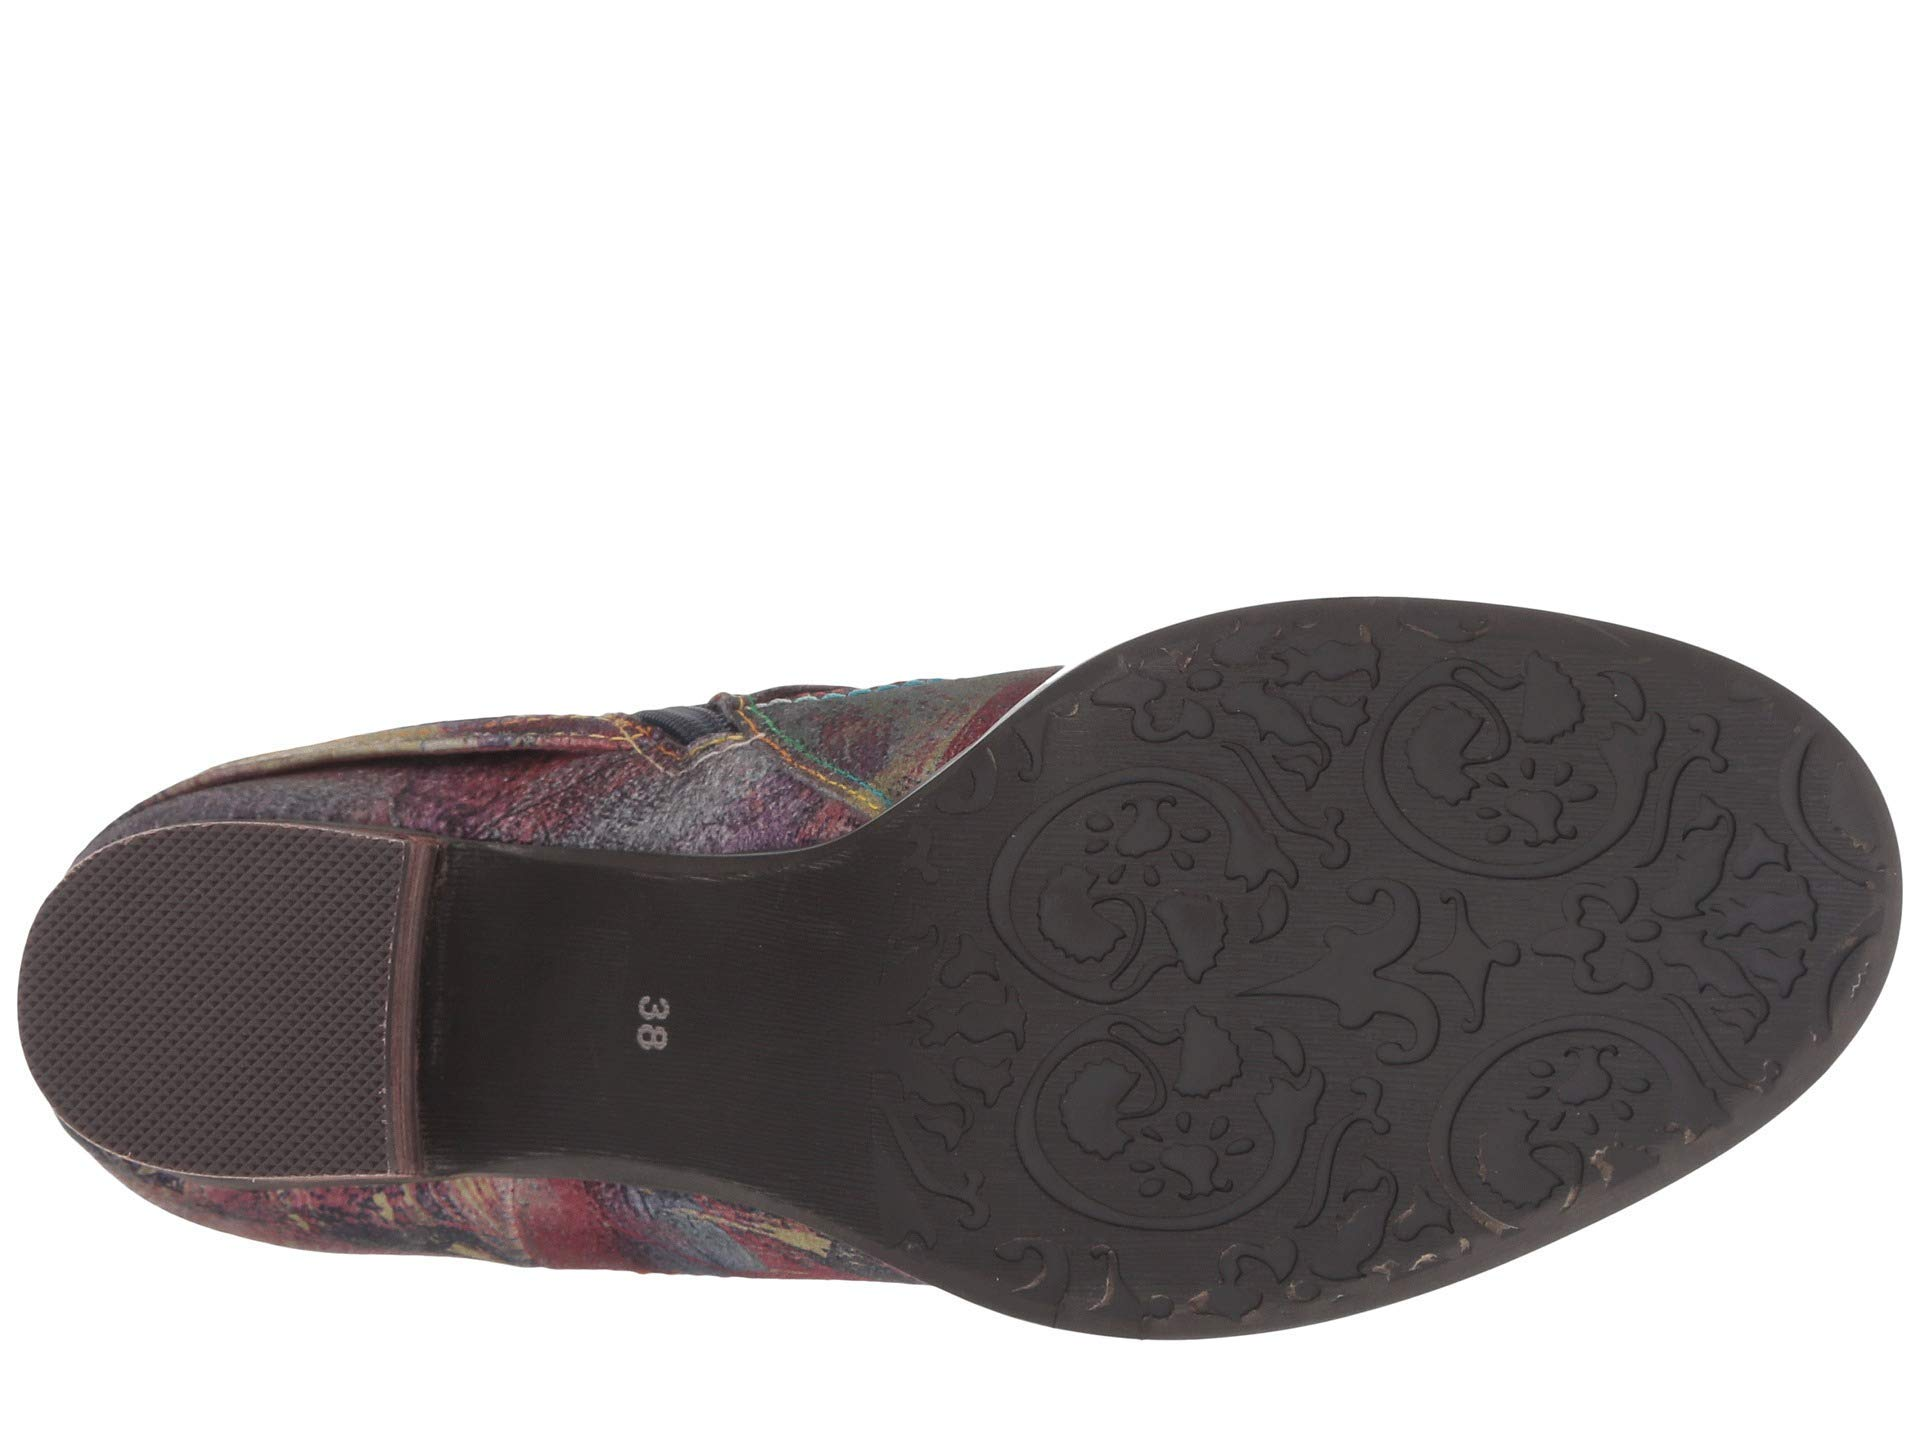circle: (1163, 820, 1217, 892), (1541, 753, 1607, 808), (1606, 1071, 1658, 1134), (1119, 1156, 1184, 1204), (1069, 811, 1122, 867)
quad: (76, 850, 364, 1166)
